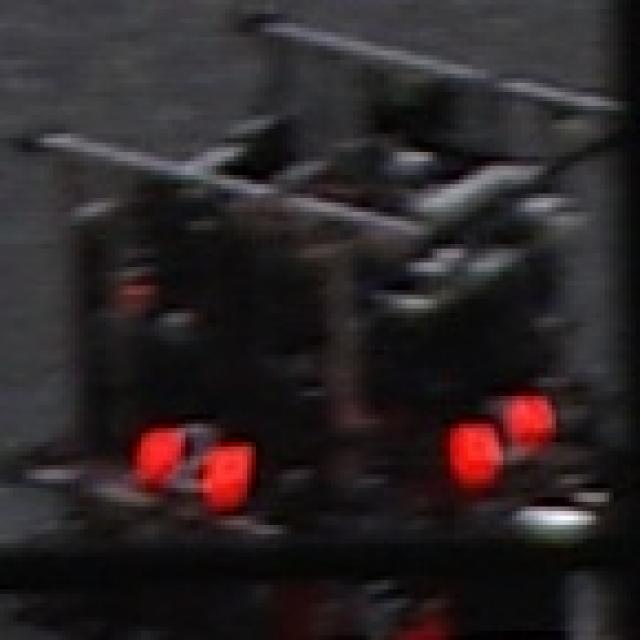R2: (137, 419, 256, 506)
